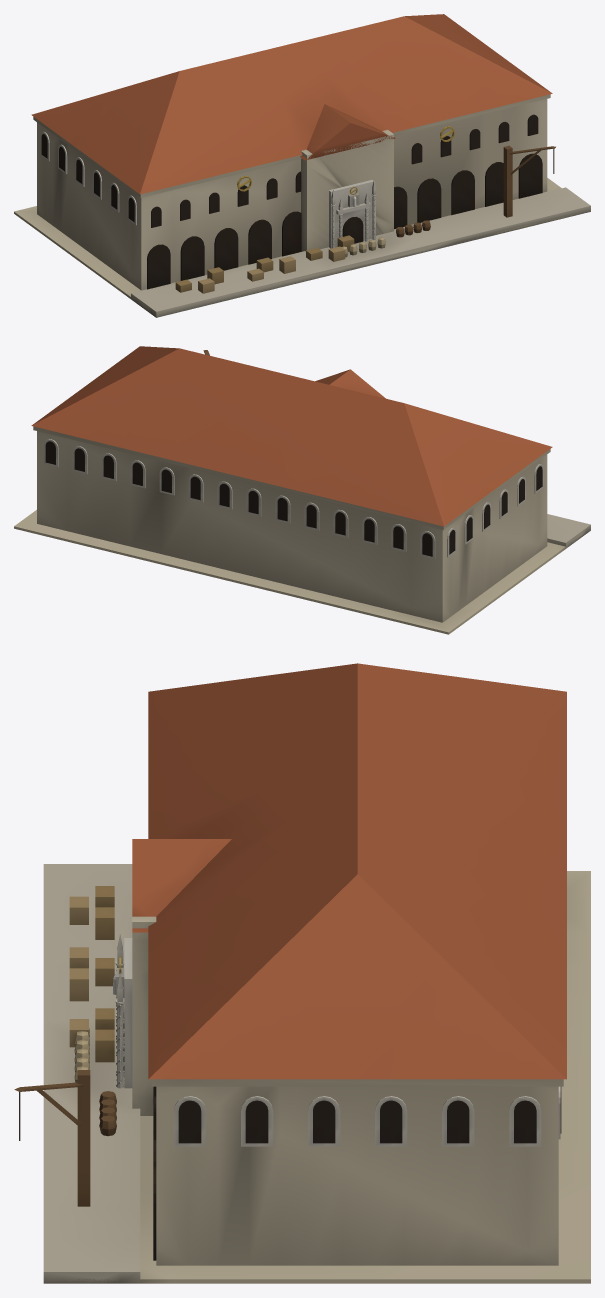
Rendered from casa-da-india.glb.
The picture shows the model from 3 angles, top to bottom: view 1: azimuth 30°, elevation 25°; view 2: azimuth 150°, elevation 25°; view 3: azimuth 270°, elevation 25°; orthographic projection. The views are drawn at different scales.
Visible parts, largest first — view 1: p1_warehouse, p0_quay, p2_cargo; view 2: p1_warehouse, p0_quay; view 3: p1_warehouse, p0_quay, p2_cargo.
Part boxes in pixels (left/top/right/bottom): p1_warehouse: left=31, top=14, right=552, bottom=290; p0_quay: left=14, top=178, right=590, bottom=317; p2_cargo: left=175, top=145, right=555, bottom=293; p1_warehouse: left=31, top=346, right=552, bottom=622; p0_quay: left=14, top=510, right=590, bottom=634; p1_warehouse: left=113, top=663, right=566, bottom=1265; p0_quay: left=43, top=864, right=590, bottom=1283; p2_cargo: left=14, top=886, right=116, bottom=1206.
Bounding box in the file's own units: 60 × 21.3 × 35.85.
